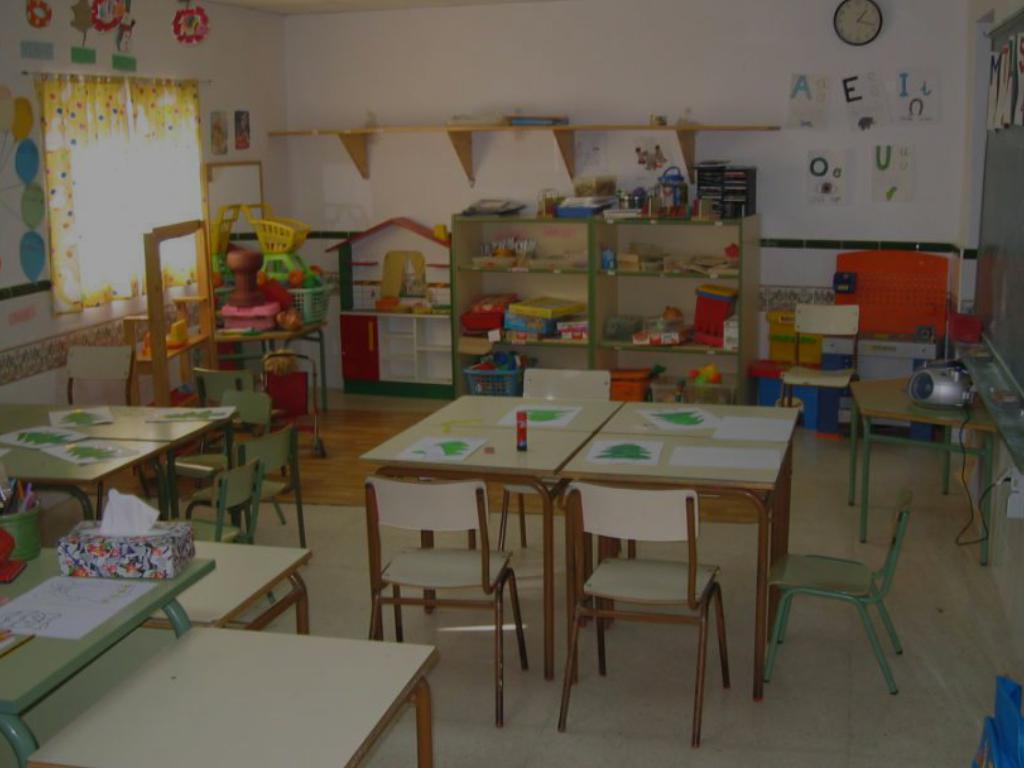Otro Obstaculo: (960, 522, 1024, 768)
